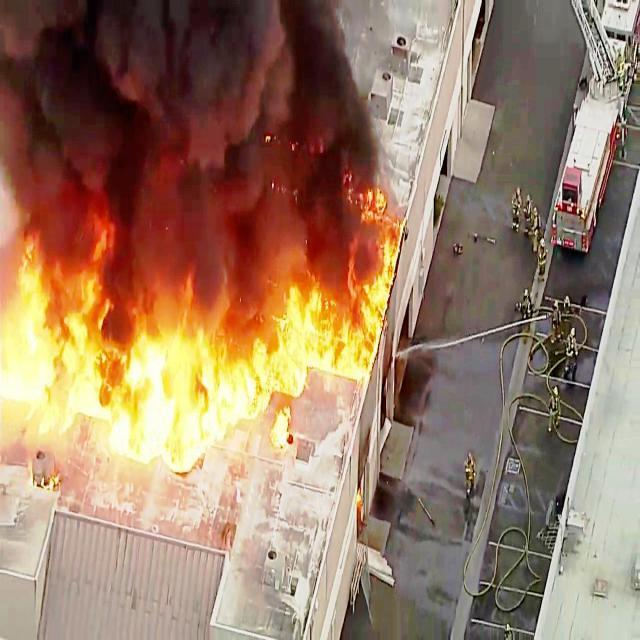Fire: (2, 237, 406, 472)
Smoke: (0, 6, 386, 232)
